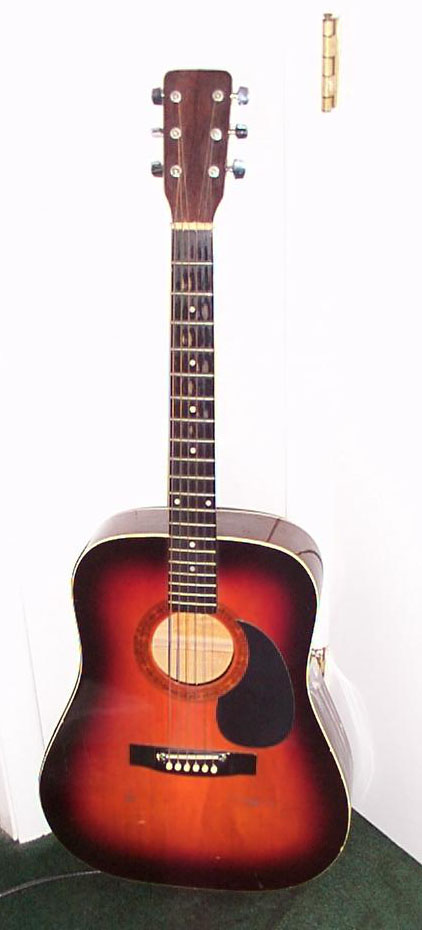guitar: (40, 70, 355, 894)
